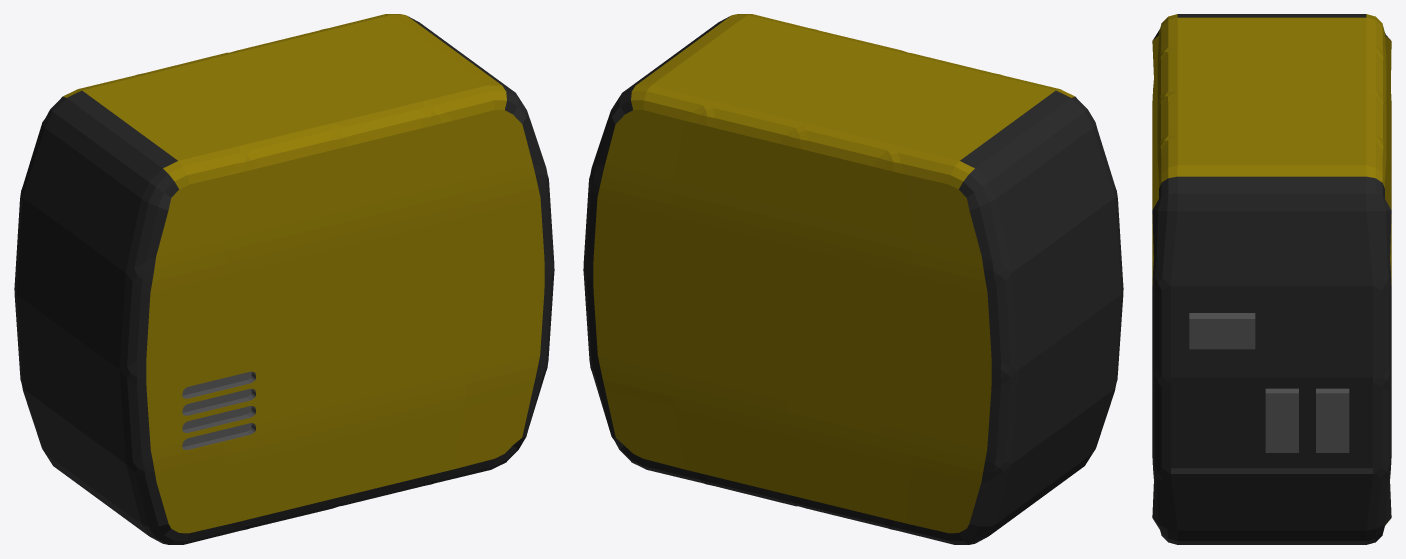
Rendered from generator2.glb.
3 renders of one model, left to right at view 1: azimuth 30°, elevation 25°; view 2: azimuth 150°, elevation 25°; view 3: azimuth 270°, elevation 25°, orthographic.
Parts seen in each view (by area): view 1: Cube; view 2: Cube; view 3: Cube.
Boxes of the visible parts, bbox=[...] form: Cube: bbox=[14, 14, 554, 544]; Cube: bbox=[583, 14, 1123, 544]; Cube: bbox=[1152, 14, 1391, 544].
Bounding box in the file's own units: 2.37 × 2 × 1.15.
